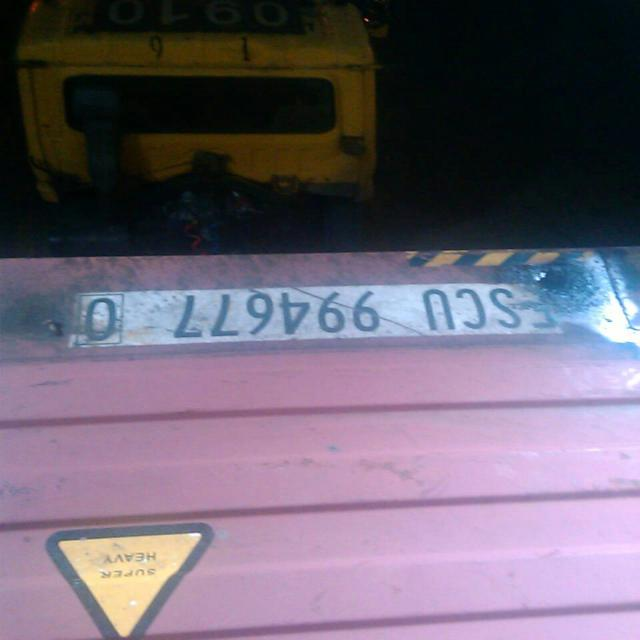hole: (524, 265, 579, 300), (38, 316, 76, 339)
